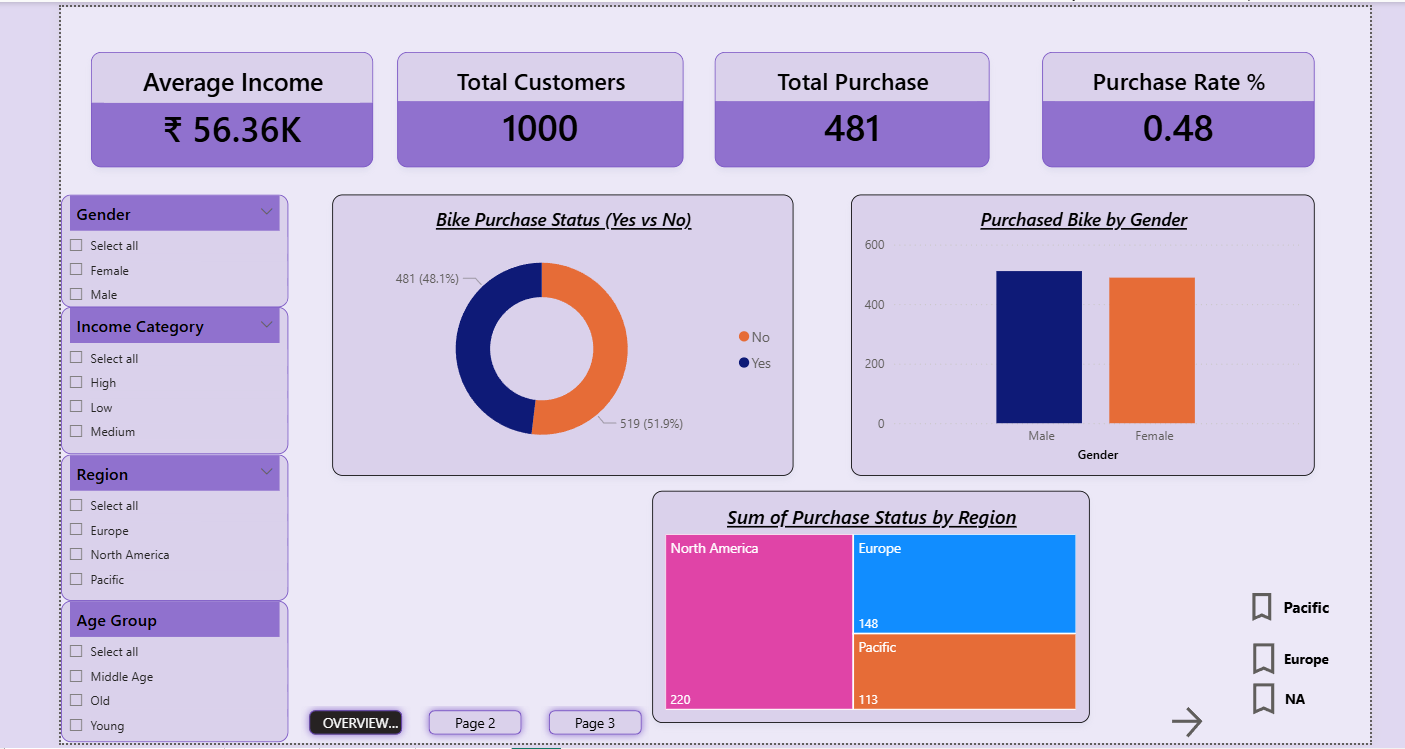

The dashboard page shown, as its layout file describes it:
{"tool":"powerbi","page":{"name":"OVERVIEW DASHBOARD","canvas":[1280,720],"ordinal":0},"visuals":[{"type":"card","title":"Total Customers","fields":{"Values":["BikeSalesData.Total Customers"]},"box":[328.9,44,280,112.5],"z":0},{"type":"card","title":"Total Purchase","fields":{"Values":["BikeSalesData.Total Purchases"]},"box":[639.5,44,269,112.5],"z":1000},{"type":"card","title":"Purchase Rate %","fields":{"Values":["BikeSalesData.Purchase Rate %"]},"box":[959.9,44,266.6,112.5],"z":2000},{"type":"card","title":"Average Income","fields":{"Values":["BikeSalesData.Average Income"]},"box":[29.3,44,276.4,112.5],"z":3000},{"type":"donutChart","title":" Bike Purchase Status (Yes vs No)","fields":{"Y":["CountNonNull(BikeSalesData.ID)"],"Category":["BikeSalesData.Purchased Bike"]},"box":[265.4,183.4,451.2,275.1],"z":4000},{"type":"clusteredColumnChart","title":"Purchased Bike by Gender","fields":{"Category":["BikeSalesData.Gender"],"Y":["CountNonNull(BikeSalesData.Purchased Bike)"]},"box":[772.8,183.4,453.7,275.1],"z":5000},{"type":"treemap","fields":{"Group":["BikeSalesData.Region"],"Values":["Sum(BikeSalesData.Purchase Status)"]},"box":[578.4,473.2,428,227.4],"z":6000},{"type":"slicer","fields":{"Values":["BikeSalesData.Region"]},"box":[0,437.8,222.6,143.1],"z":7000},{"type":"slicer","fields":{"Values":["BikeSalesData.Gender"]},"box":[0,183.4,222.6,110.1],"z":8000},{"type":"slicer","fields":{"Values":["BikeSalesData.Income Category"]},"box":[0,293.5,222.6,144.3],"z":9000},{"type":"slicer","fields":{"Values":["BikeSalesData.Age Group"]},"box":[0,580.8,222.6,138.2],"z":10000},{"type":"actionButton","title":"Pacific","box":[1156.9,568.5,122.9,36],"z":11000},{"type":"actionButton","box":[1156.9,656.6,100.5,39.7],"z":12000},{"type":"actionButton","box":[1156.9,616.9,122.9,39.7],"z":13000},{"type":"pageNavigator","box":[234.8,679.9,343.6,40.4],"z":14000},{"type":"actionButton","box":[1081.2,680.2,100.5,39.7],"z":15000}]}

Visuals, with their boxes in screenshot pixels (x1, y1, x2, y2):
"Total Customers" card: pyautogui.locateOnScreen(393, 49, 680, 164)
"Total Purchase" card: pyautogui.locateOnScreen(712, 49, 988, 164)
"Purchase Rate %" card: pyautogui.locateOnScreen(1041, 49, 1315, 164)
"Average Income" card: pyautogui.locateOnScreen(85, 49, 369, 164)
" Bike Purchase Status (Yes vs No)" donutChart: pyautogui.locateOnScreen(328, 192, 791, 475)
"Purchased Bike by Gender" clusteredColumnChart: pyautogui.locateOnScreen(849, 192, 1315, 475)
treemap - BikeSalesData.Region x Sum(BikeSalesData.Purchase Status): pyautogui.locateOnScreen(649, 490, 1089, 723)
slicer - BikeSalesData.Region: pyautogui.locateOnScreen(55, 453, 284, 600)
slicer - BikeSalesData.Gender: pyautogui.locateOnScreen(55, 192, 284, 305)
slicer - BikeSalesData.Income Category: pyautogui.locateOnScreen(55, 305, 284, 453)
slicer - BikeSalesData.Age Group: pyautogui.locateOnScreen(55, 600, 284, 742)
"Pacific" actionButton: pyautogui.locateOnScreen(1243, 588, 1370, 625)
actionButton: pyautogui.locateOnScreen(1243, 678, 1347, 719)
actionButton: pyautogui.locateOnScreen(1243, 637, 1370, 678)
pageNavigator: pyautogui.locateOnScreen(296, 702, 649, 744)
actionButton: pyautogui.locateOnScreen(1166, 702, 1269, 743)
